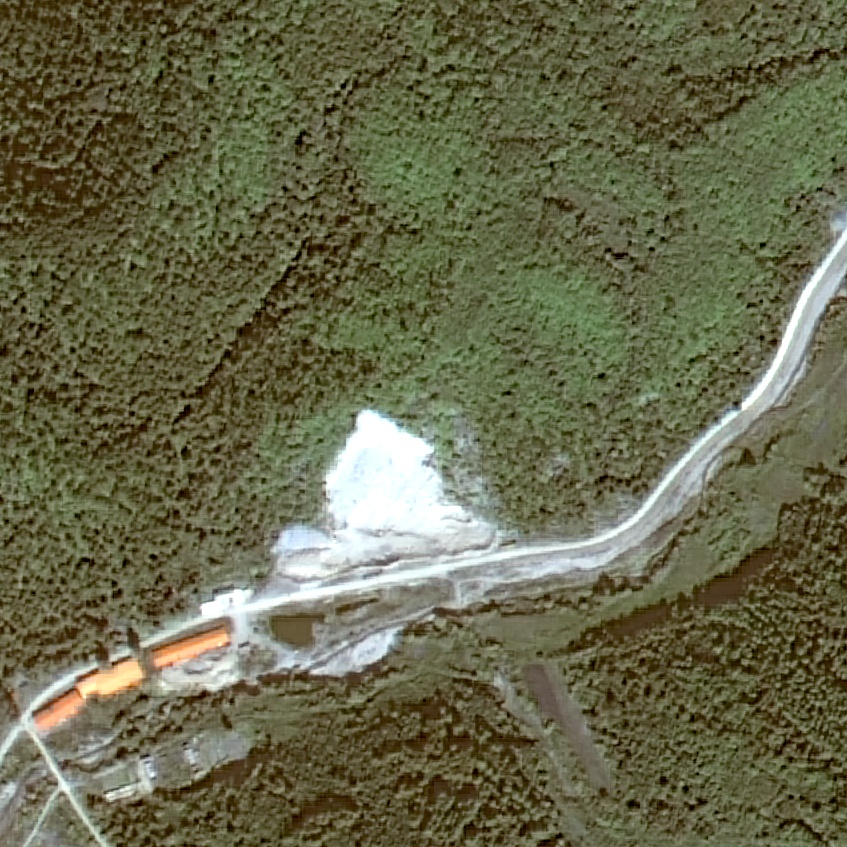slope: (273, 401, 503, 579)
